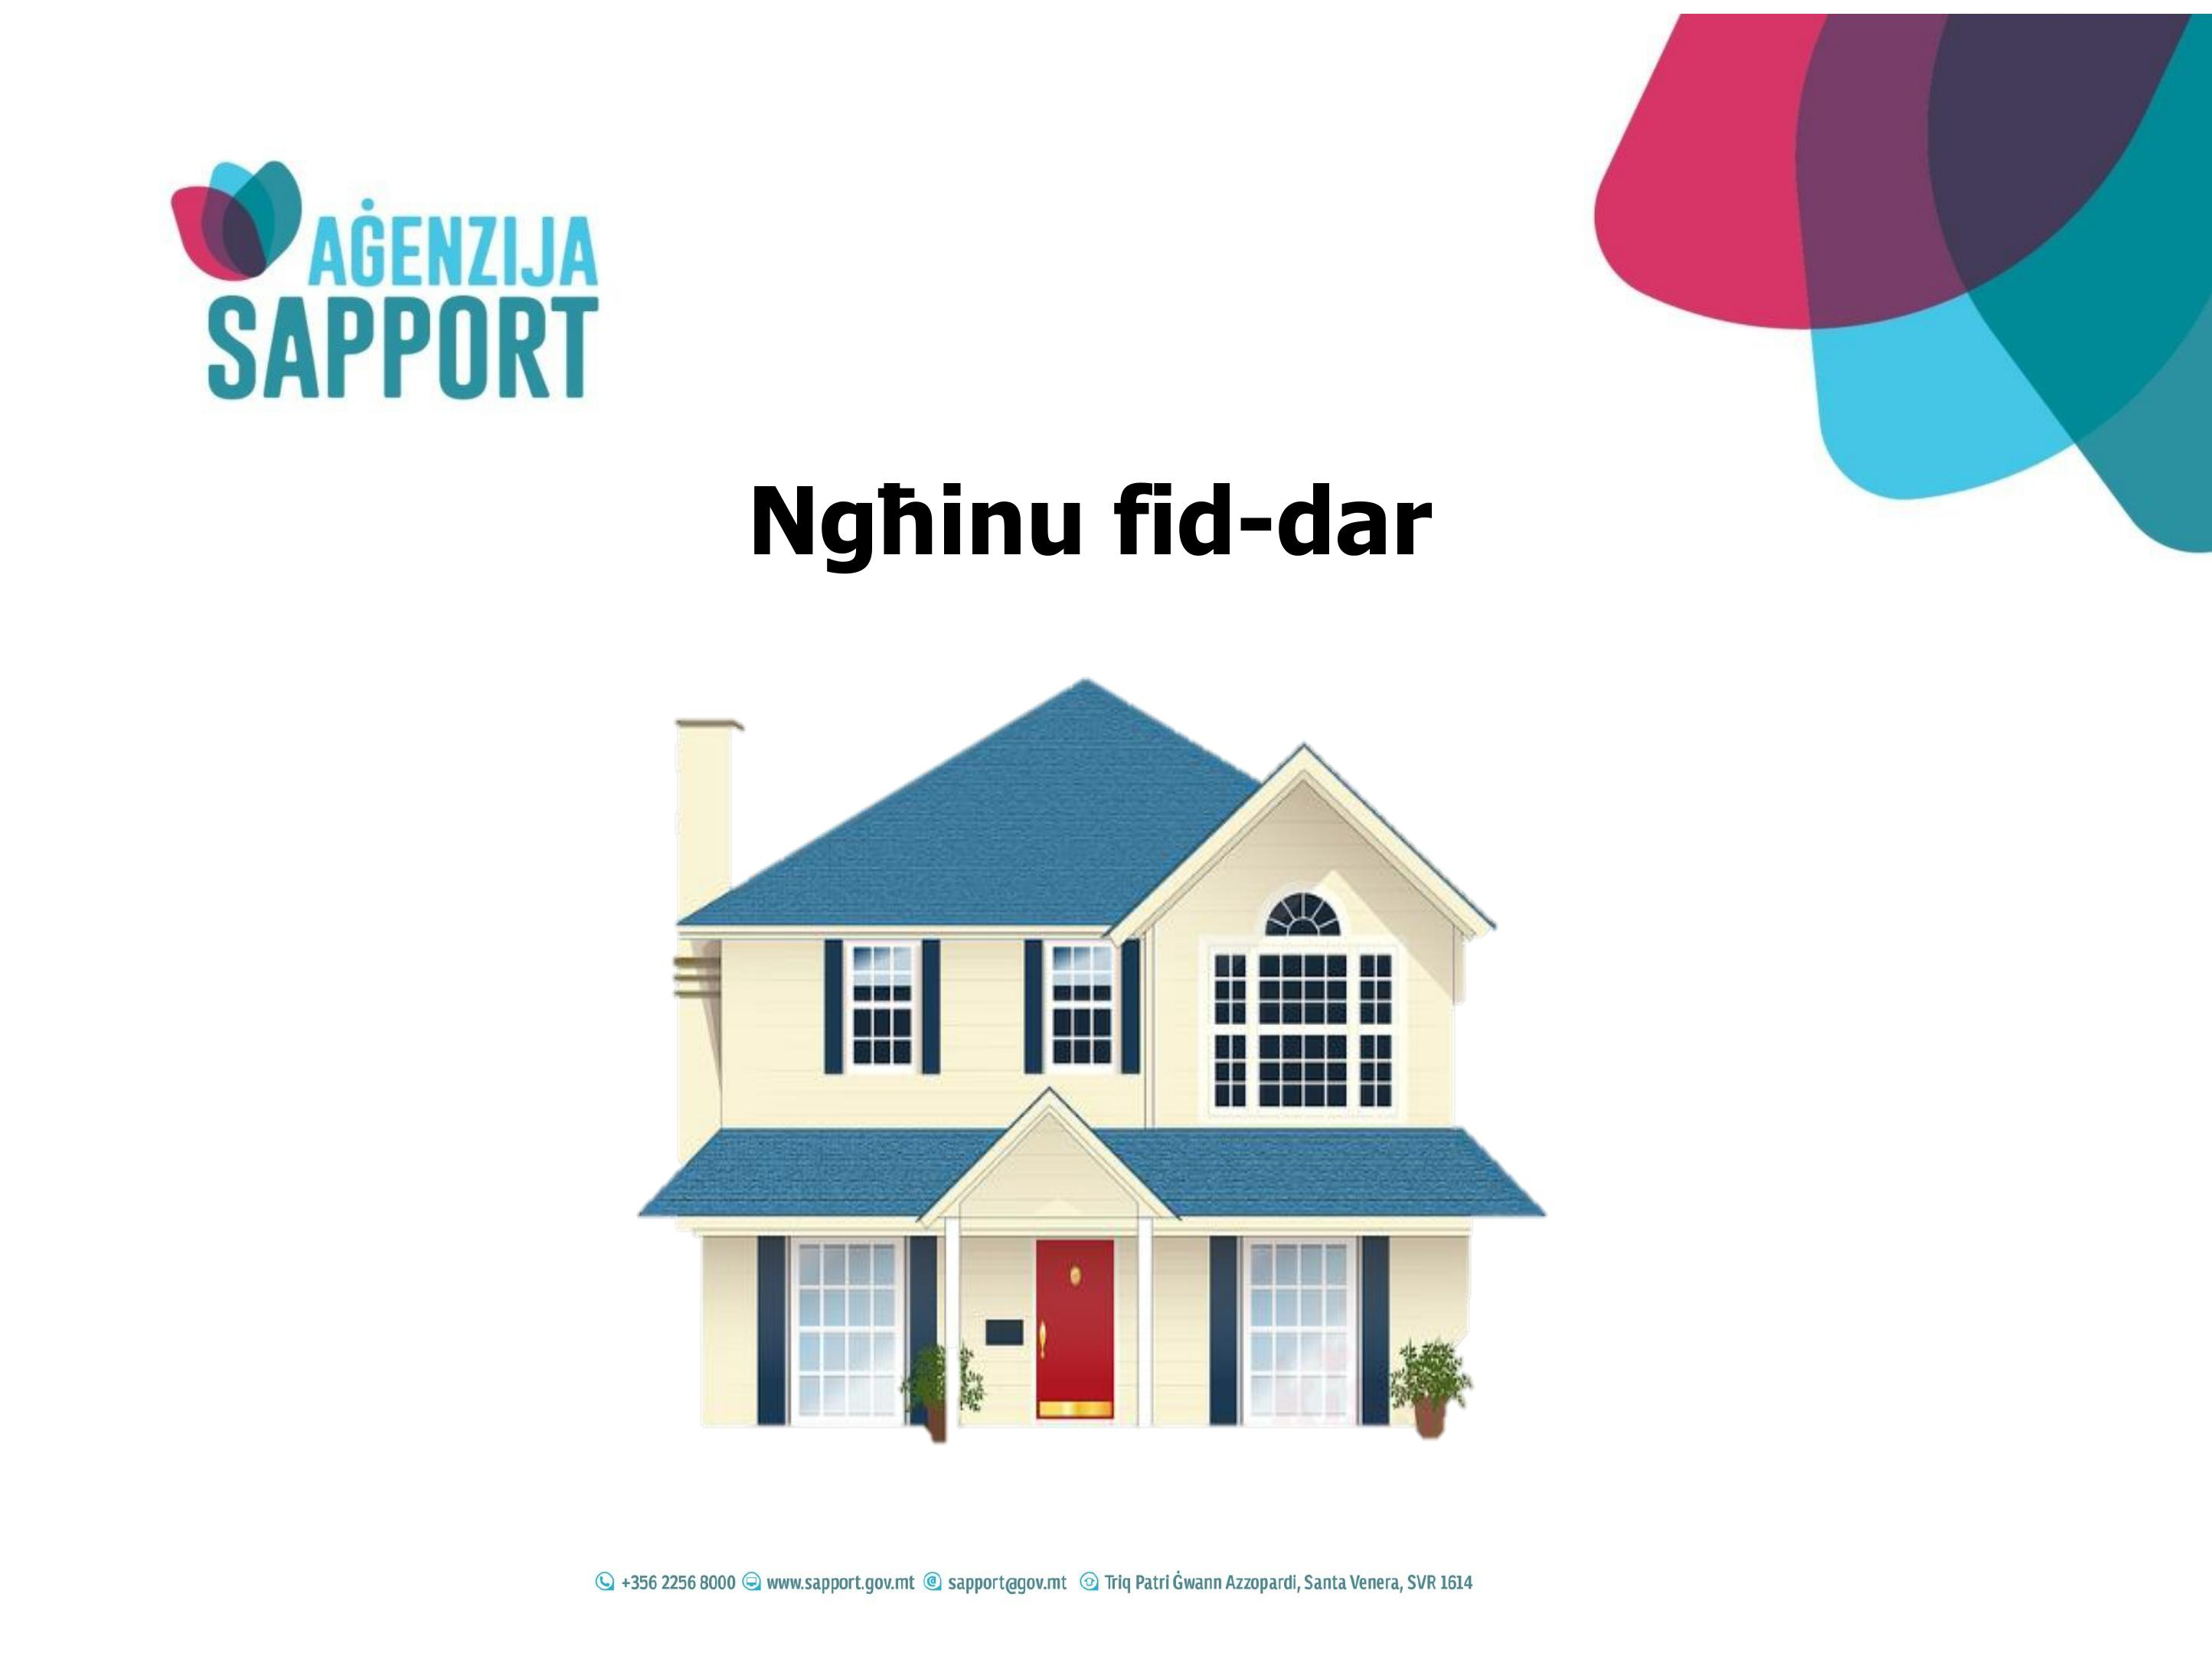text: (708, 444, 1461, 592)
